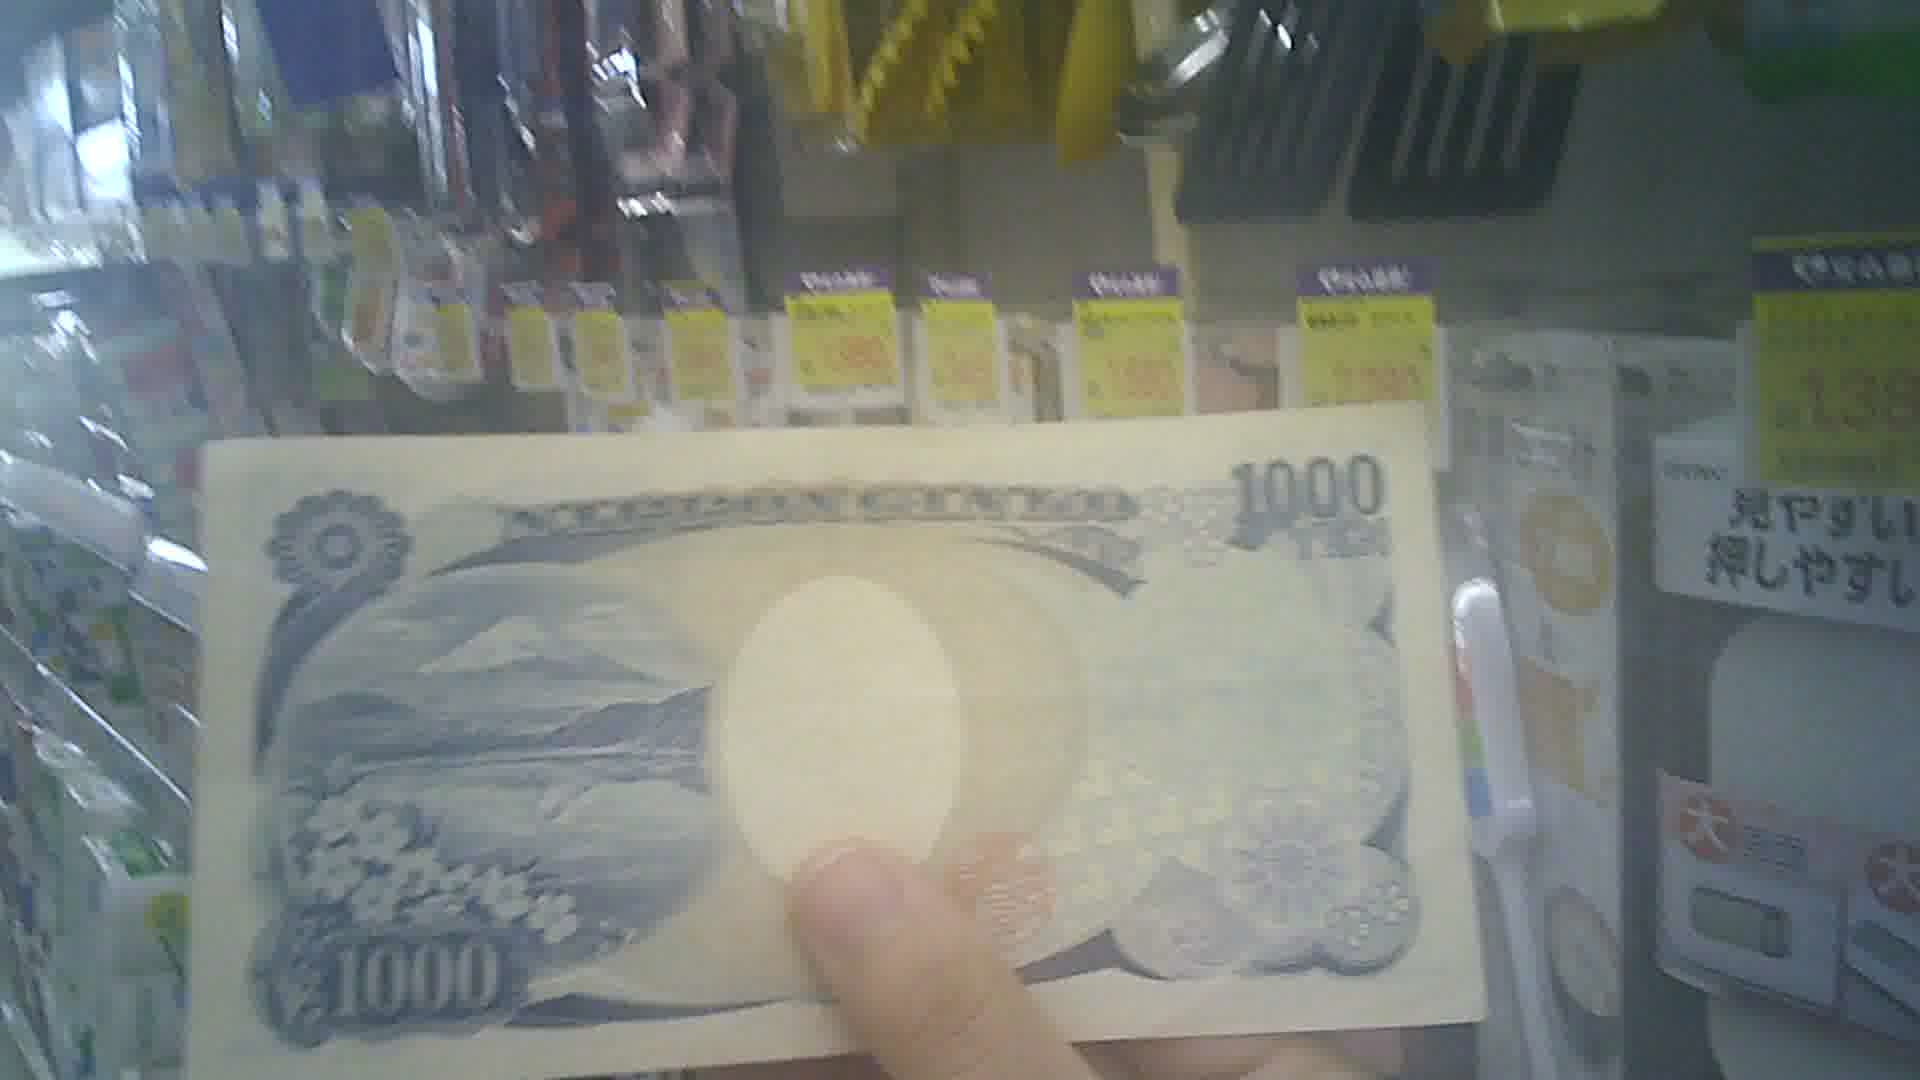1,000 Yen: (193, 419, 1509, 1077)
